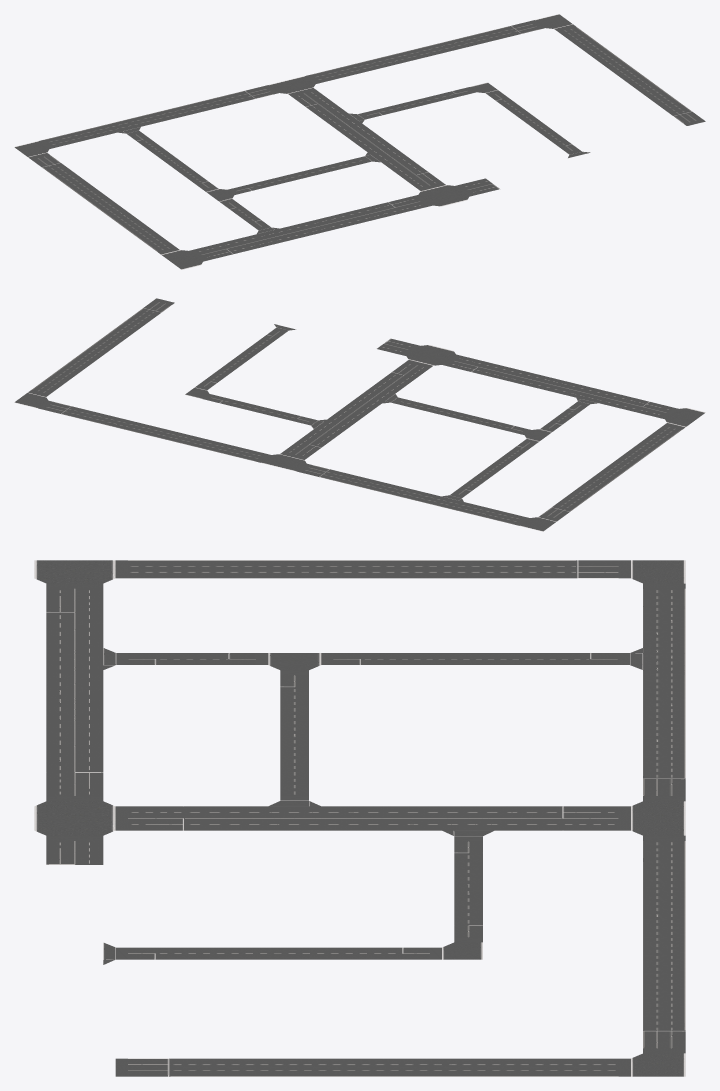
The model's file is RDp_1_FV.obj.
The picture shows the model from 3 angles, top to bottom: view 1: azimuth 30°, elevation 25°; view 2: azimuth 150°, elevation 25°; view 3: azimuth 270°, elevation 25°; orthographic projection. The views are drawn at different scales.
Visible parts, largest first — view 1: RD_58, RD_35, RD_8, RD_3, RD_52, RD_14, RD_30, RD_47, RD_19, RD_62, RD_41, RD_6 (+1 smaller); view 2: RD_58, RD_35, RD_3, RD_8, RD_52, RD_14, RD_30, RD_47, RD_19, RD_62, RD_41, RD_6 (+1 smaller); view 3: RD_35, RD_58, RD_52, RD_14, RD_8, RD_3, RD_47, RD_30, RD_62, RD_19, RD_41, RD_55 (+13 smaller).
Boxes of the visible parts, x1,y1,x2,y2 form: RD_58: (220, 202, 401, 253); RD_35: (306, 101, 427, 177); RD_8: (310, 26, 520, 82); RD_3: (44, 91, 254, 147); RD_52: (558, 26, 691, 115); RD_14: (42, 163, 176, 251); RD_30: (246, 157, 366, 190); RD_47: (496, 98, 571, 146); RD_19: (137, 138, 207, 183); RD_62: (418, 185, 469, 206); RD_41: (376, 91, 458, 114); RD_6: (269, 76, 315, 93); RD_58: (472, 362, 648, 411); RD_35: (297, 372, 415, 447); RD_3: (320, 469, 524, 524); RD_8: (62, 406, 265, 461); RD_52: (31, 308, 160, 394); RD_14: (552, 425, 681, 511); RD_30: (396, 399, 513, 430); RD_47: (205, 335, 278, 382); RD_19: (460, 446, 528, 490); RD_62: (406, 345, 455, 365); RD_41: (220, 398, 299, 420); RD_6: (261, 454, 306, 471); RD_35: (185, 806, 561, 830); RD_58: (46, 612, 103, 771); RD_52: (170, 1058, 618, 1076); RD_14: (128, 560, 575, 578); RD_8: (643, 841, 685, 1030); RD_3: (643, 588, 685, 777); RD_47: (156, 947, 401, 959); RD_30: (280, 687, 308, 795); RD_62: (34, 801, 115, 835); RD_19: (362, 653, 588, 664); RD_41: (454, 853, 482, 924); RD_55: (34, 560, 115, 583).
Size of the model in its own units: 984 by 0 by 525.
